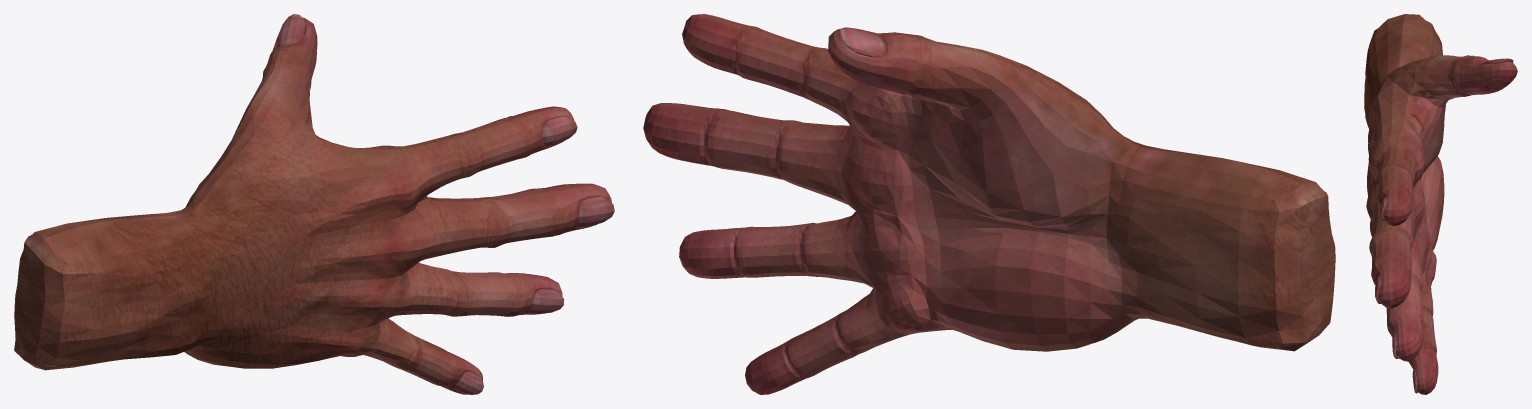
File: realistic_hand_right.dae
3 renders of one model, left to right at view 1: azimuth 30°, elevation 25°; view 2: azimuth 150°, elevation 25°; view 3: azimuth 270°, elevation 25°, orthographic. The views are drawn at different scales.
Parts seen in each view (by area): view 1: node; view 2: node; view 3: node.
Boxes of the visible parts, bbox=[...] form: node: bbox=[14, 14, 614, 394]; node: bbox=[643, 14, 1335, 394]; node: bbox=[1364, 14, 1517, 394].
Bounding box in the file's own units: 0.2715 × 0.1671 × 0.0803.
Materials: 1 (1 with a texture image).
